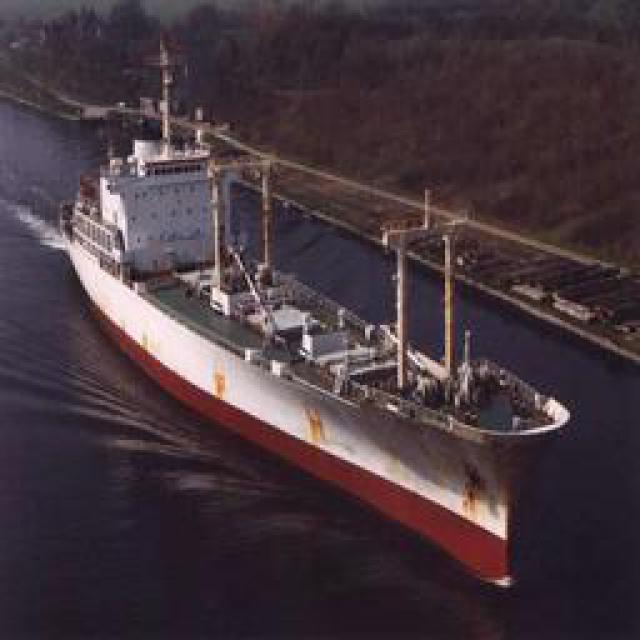Ship: (69, 117, 612, 587)
